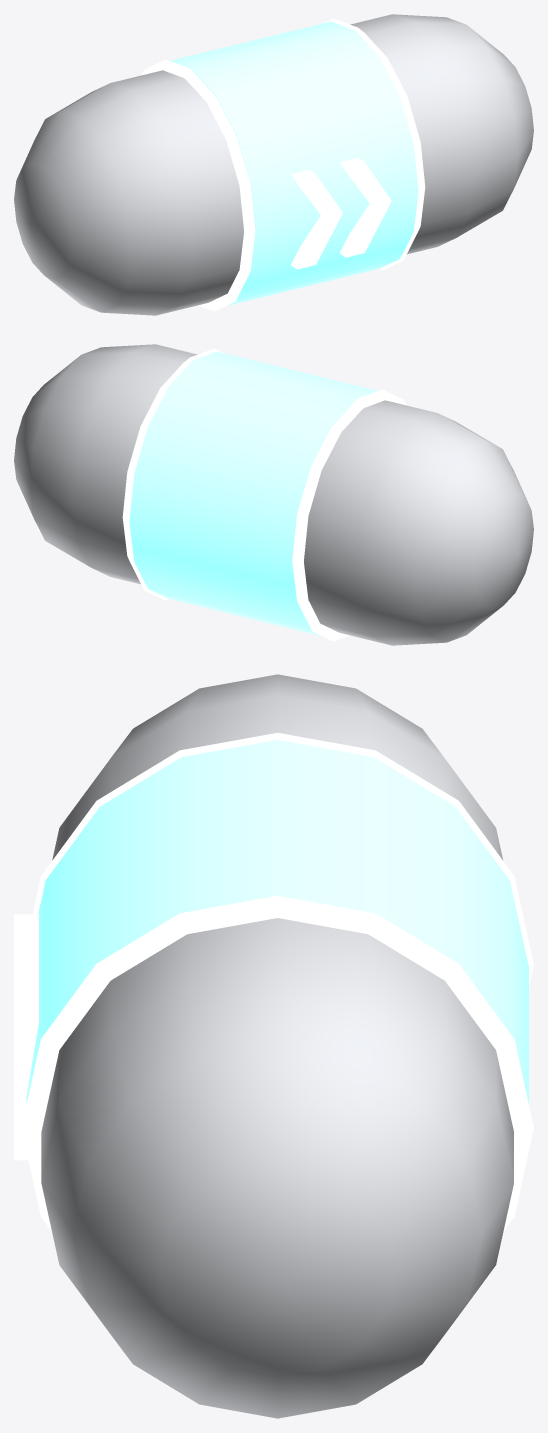
3 views of the same model, one above another, from view 1: azimuth 30°, elevation 25°; view 2: azimuth 150°, elevation 25°; view 3: azimuth 270°, elevation 25° (orthographic). The views are drawn at different scales.
Visible parts, largest first — view 1: capsule; view 2: capsule; view 3: capsule.
Boxes of the visible parts, x1,y1,x2,y2 form: capsule: (14,14,533,315); capsule: (14,344,533,645); capsule: (14,674,533,1418).
Size of the model in its own units: 0.9 by 0.412 by 0.418.
